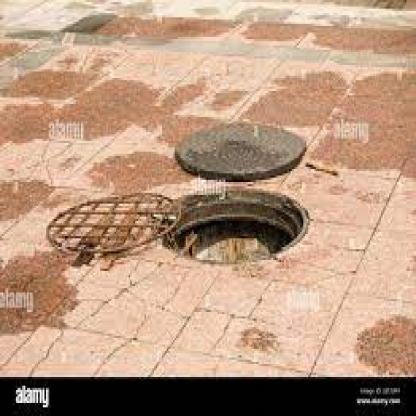open manhole-not overflowing-: (156, 99, 320, 312)
